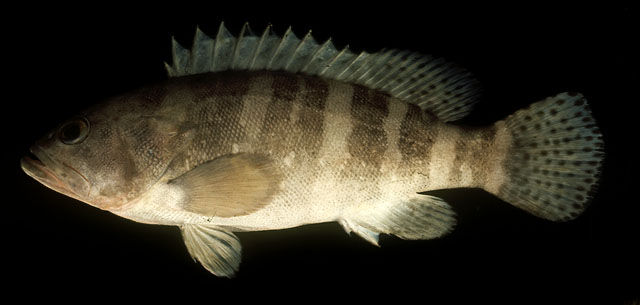fish: (18, 22, 604, 280)
